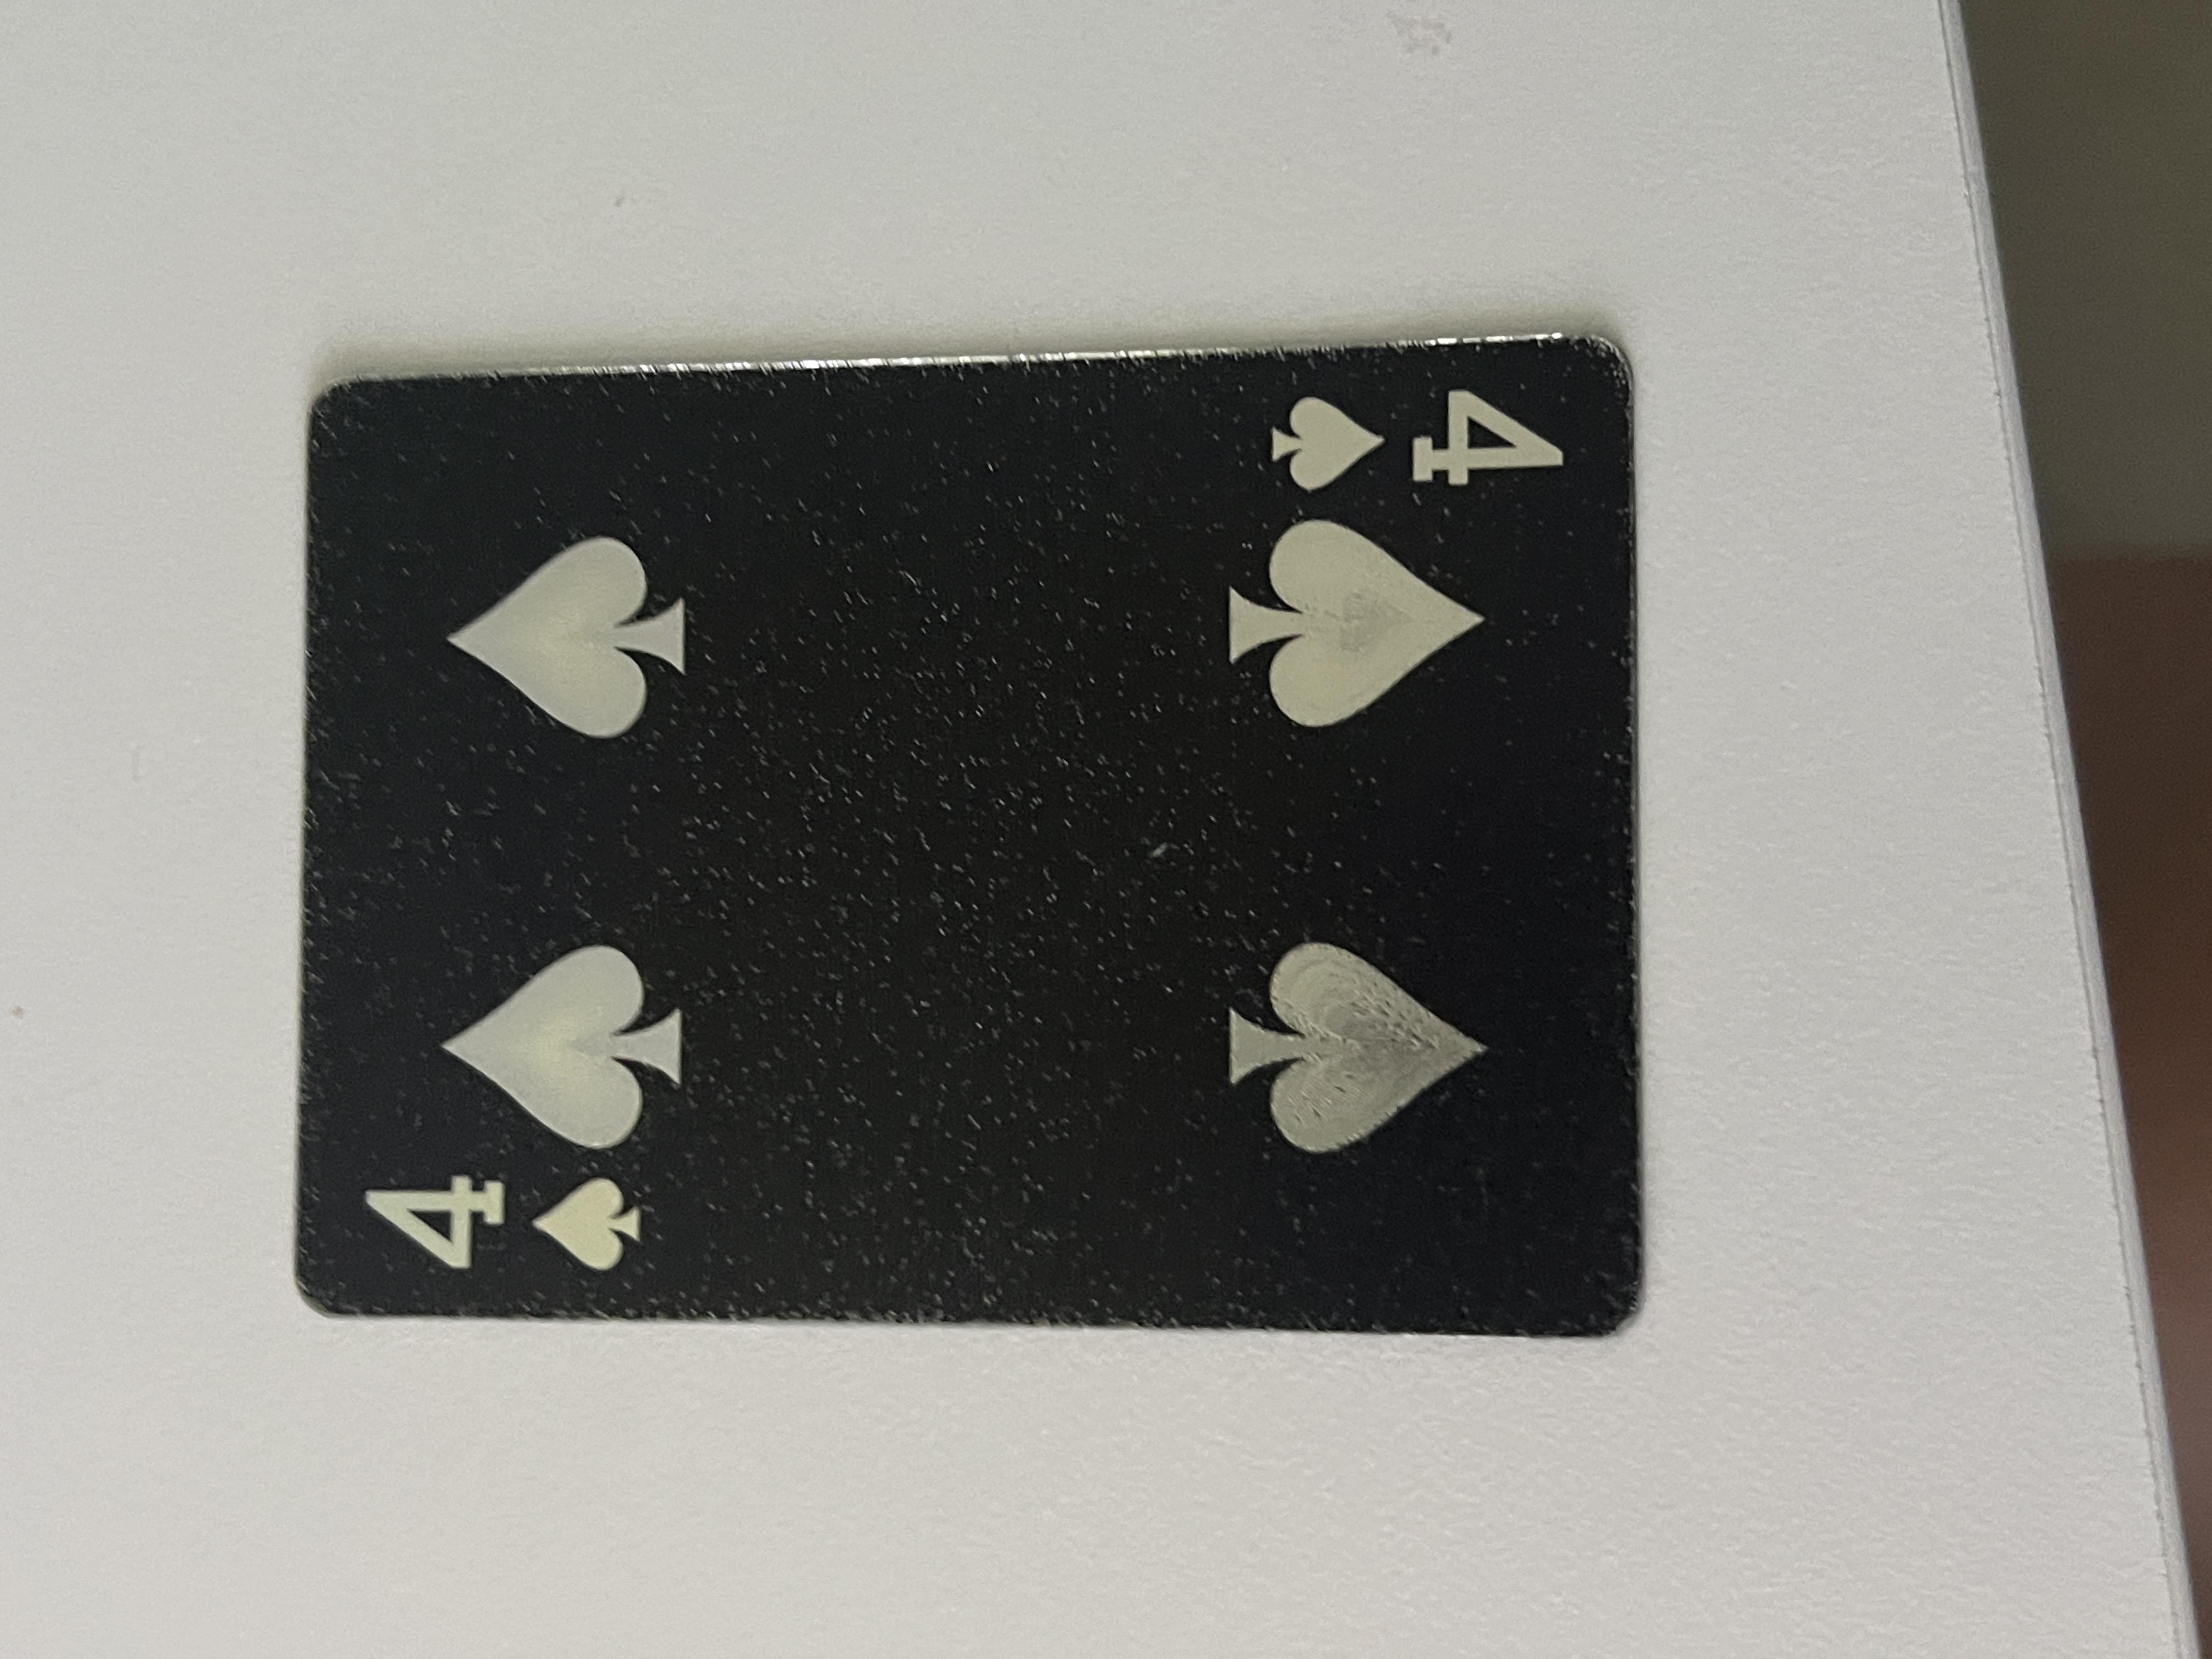4S: (1533, 934, 1705, 1182), (502, 272, 669, 488)
